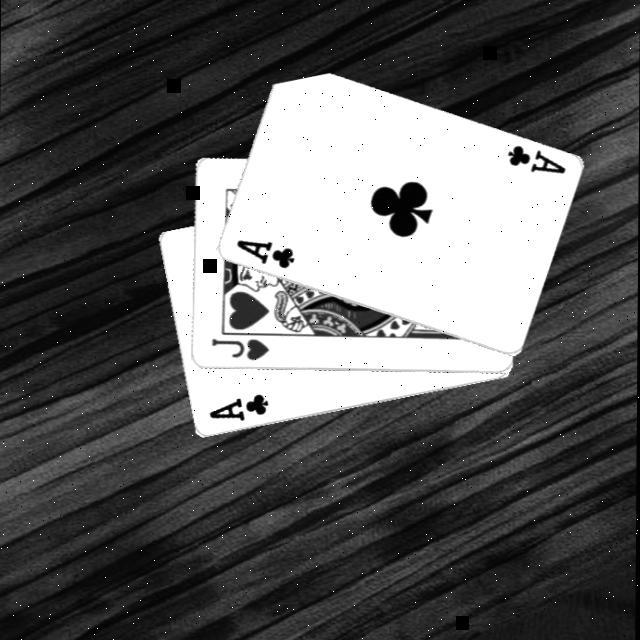AC: (504, 141, 568, 176), (207, 390, 272, 424), (234, 236, 298, 270)
JH: (210, 335, 272, 363)
